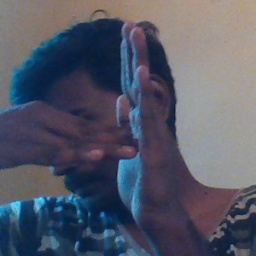Z: (27, 22, 186, 224)
